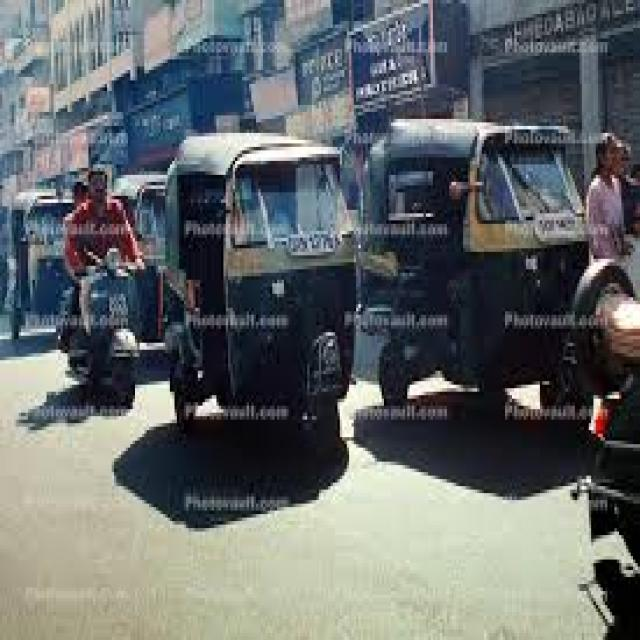motorcycle: (573, 259, 638, 640), (58, 248, 137, 409)
person: (63, 171, 142, 332), (586, 136, 624, 259)
three wheeler: (358, 119, 586, 406), (168, 133, 354, 451), (9, 189, 72, 336), (114, 171, 165, 343)
